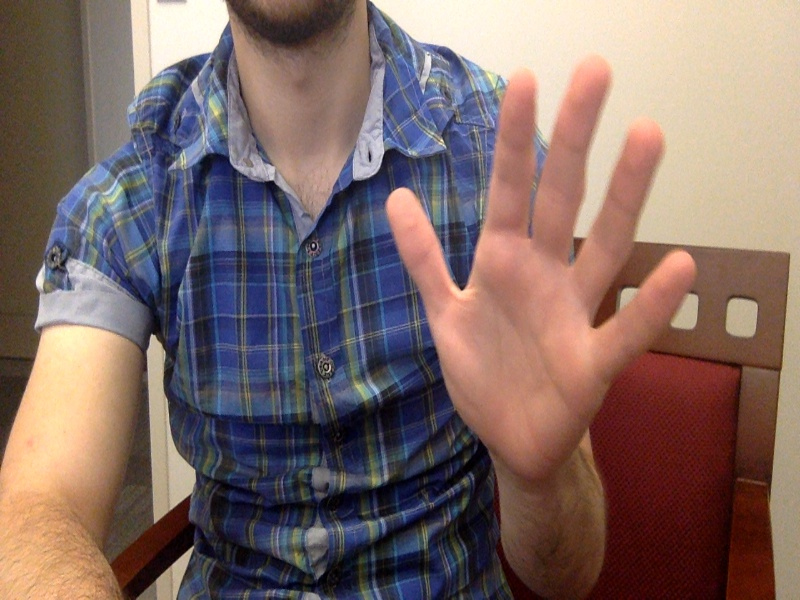5-hand: (384, 56, 696, 471)
